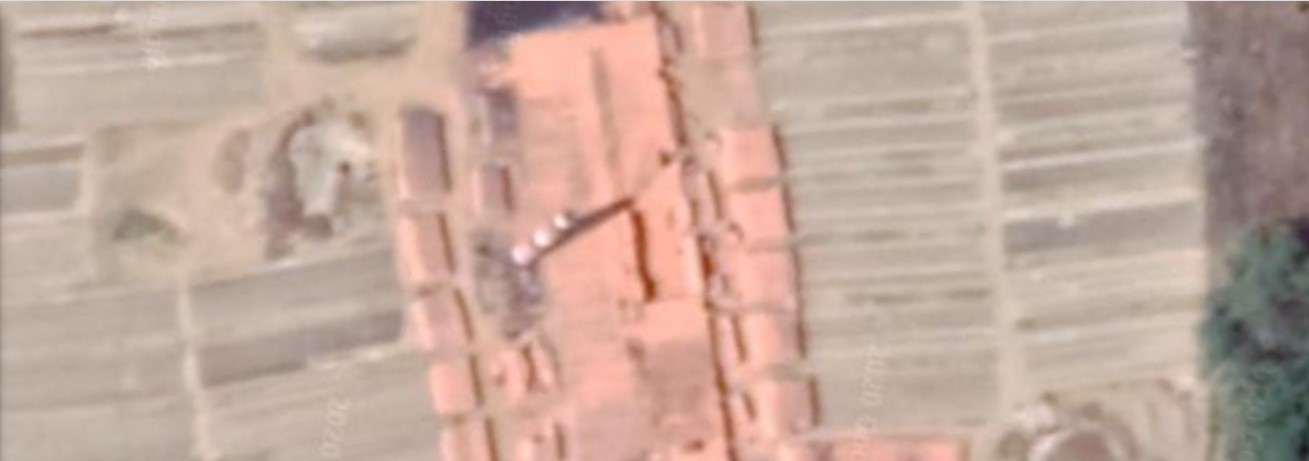kiln: (420, 65, 706, 433)
